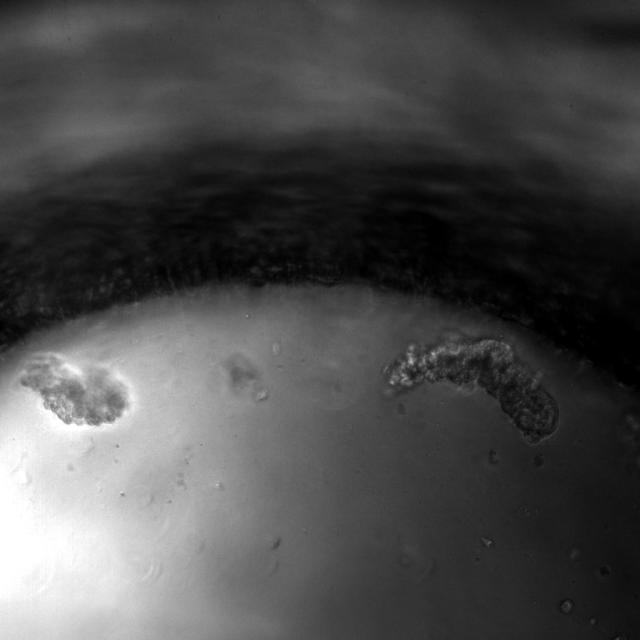organoid: (386, 338, 559, 443), (21, 353, 129, 426)
